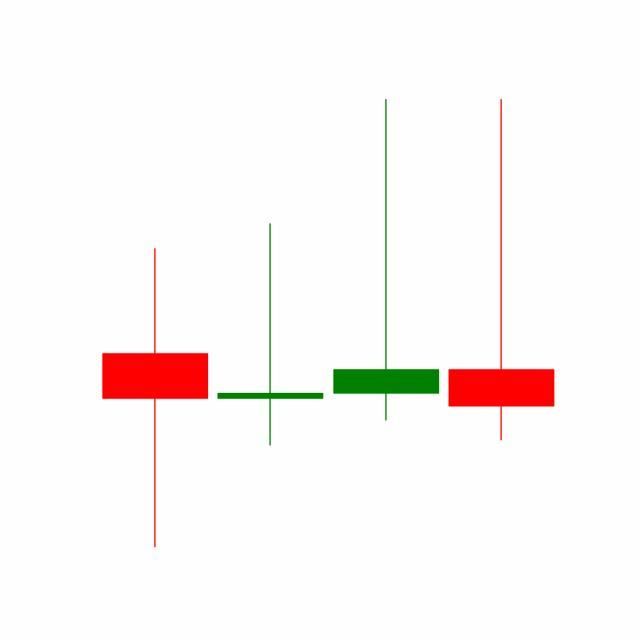Gravestone Doji: (329, 97, 445, 426)
